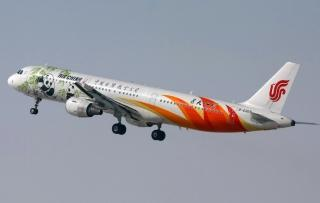airplane: (4, 61, 320, 136)
